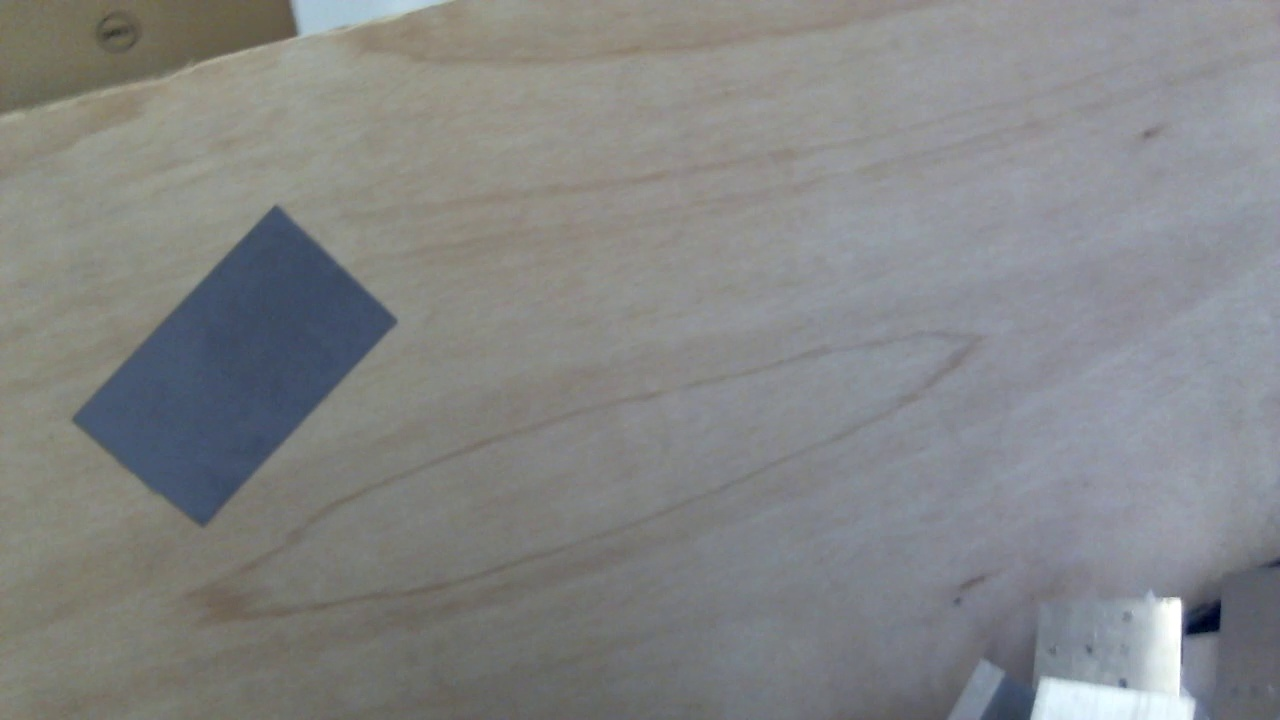Tape: (72, 206, 400, 529)
